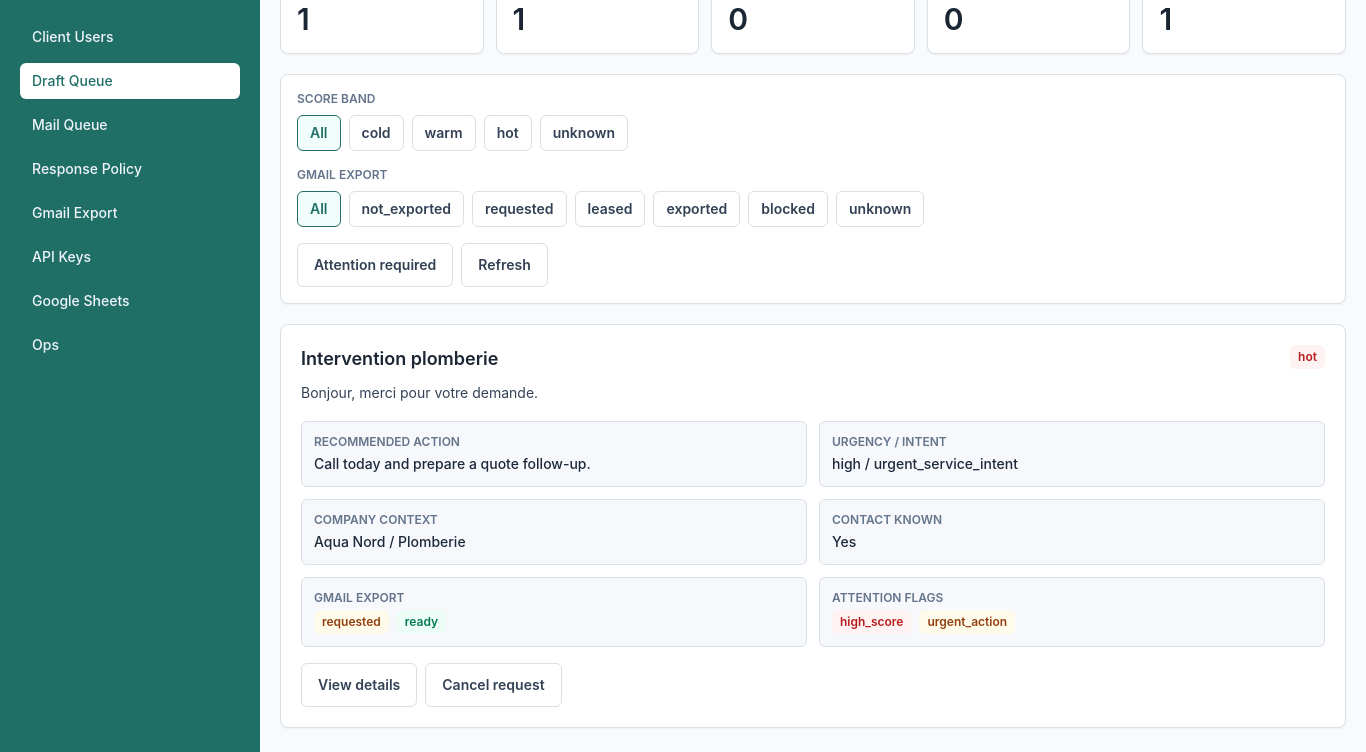
Test case: admin app › opens the draft detail drawer with full generated draft only
(page scrolled)
Click the button "View details" at x=359, y=685, box x1=301 y1=663 x2=417 y2=707
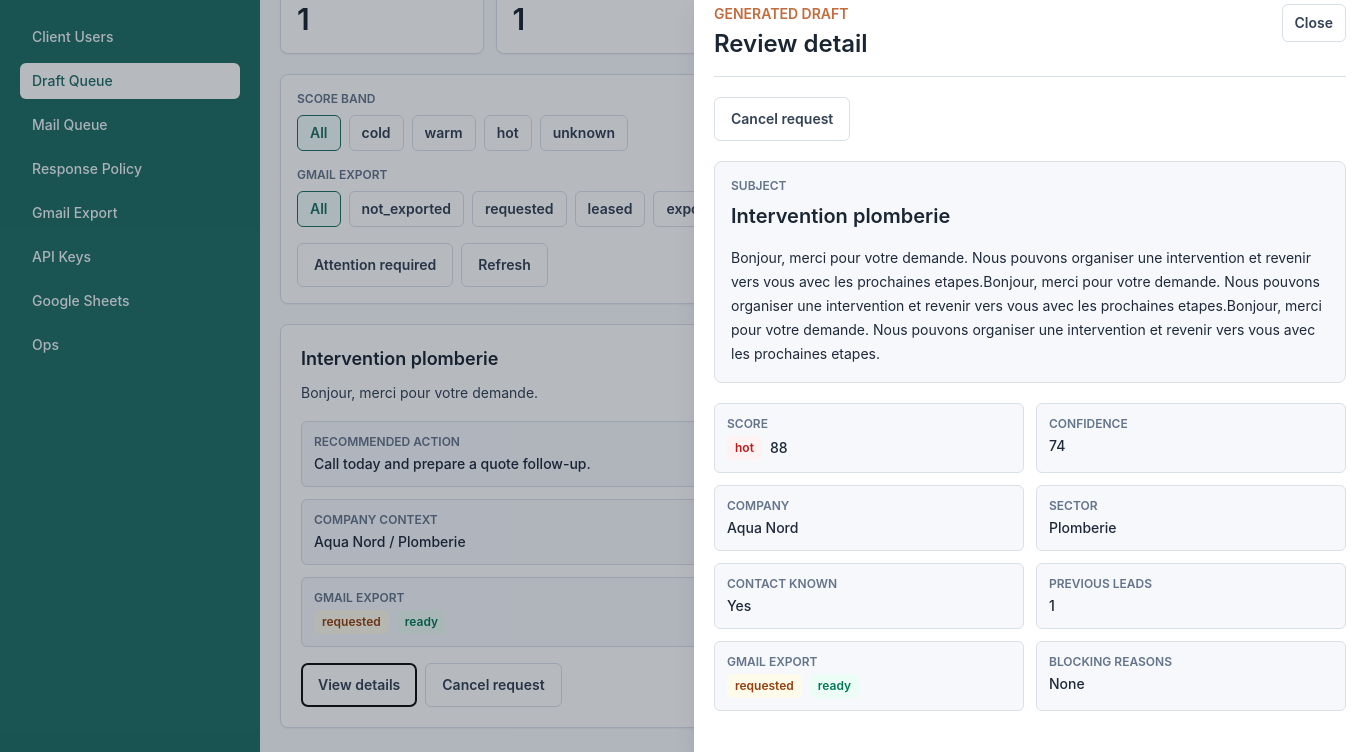
Now the text "Blocking reasons" is shown, box x1=1049 y1=654 x2=1172 y2=669
